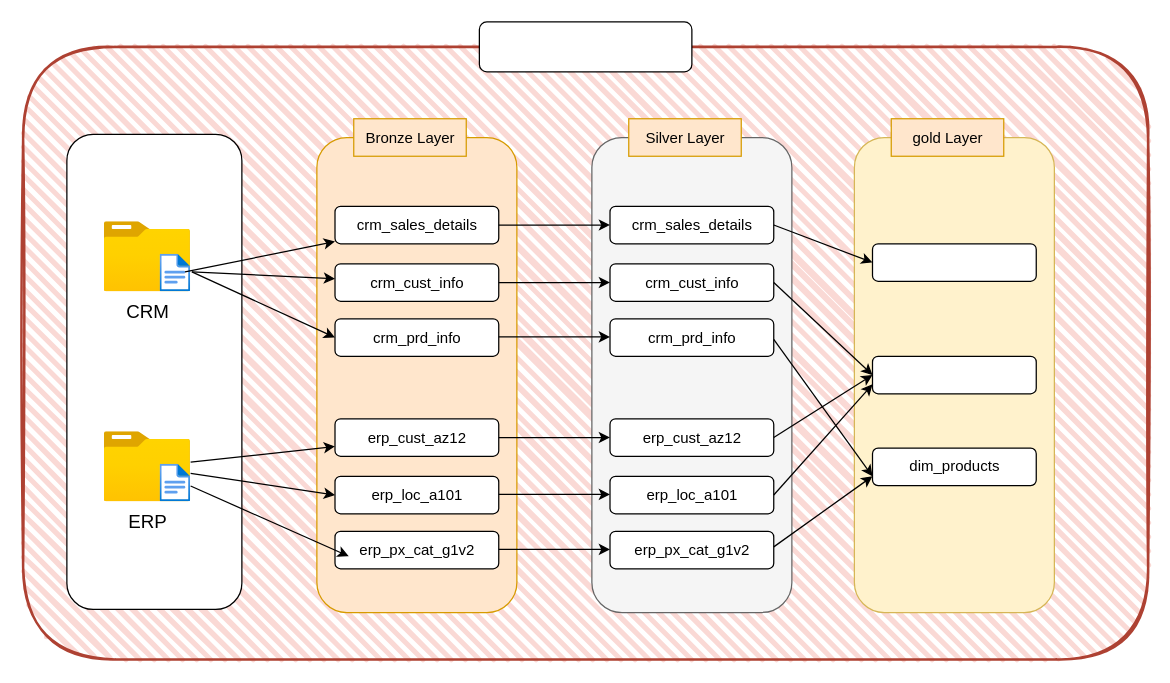
Some shapes in this 1170 by 683 pixel diagram are drawn without their labels. Each missing label, with the centre of its shape:
"data flow" belongs at point 585,46.
"dim_customers" belongs at point 953,374.
"fact_sales_details" belongs at point 953,261.
